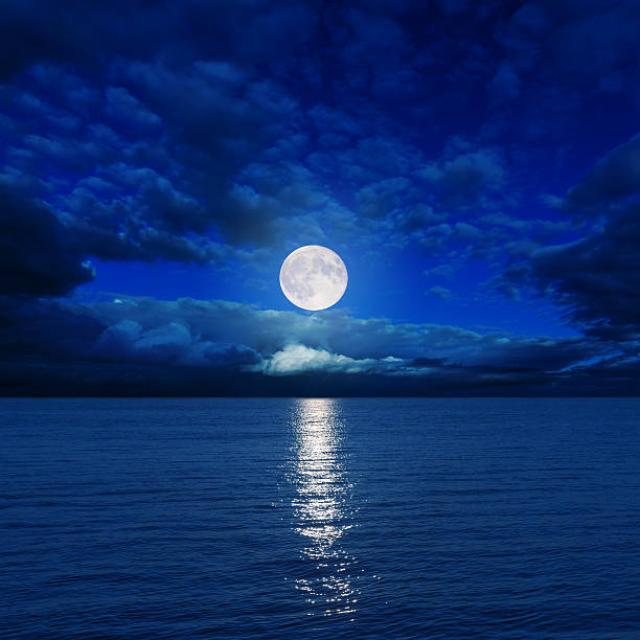moon: (278, 240, 354, 312)
